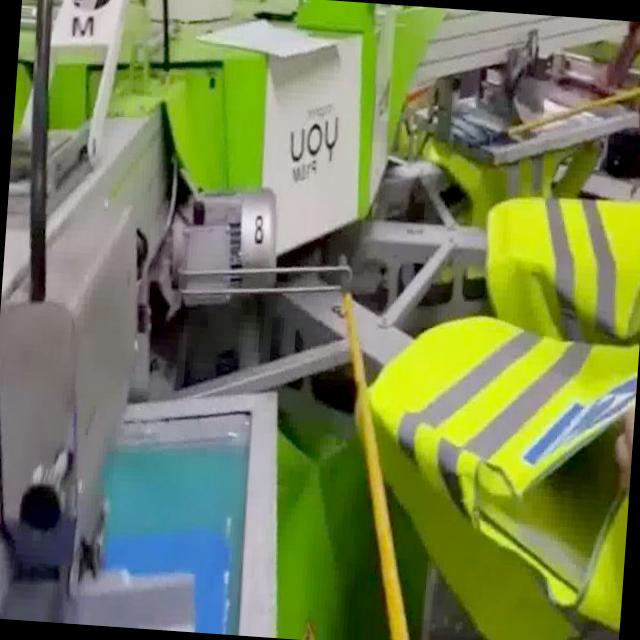vest: (342, 317, 639, 640), (476, 190, 640, 343)
